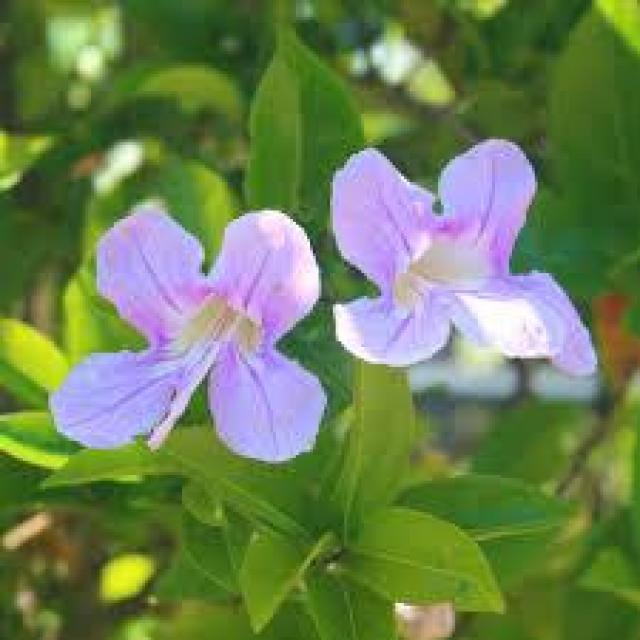organic waste: (38, 194, 340, 464), (310, 139, 612, 384)
